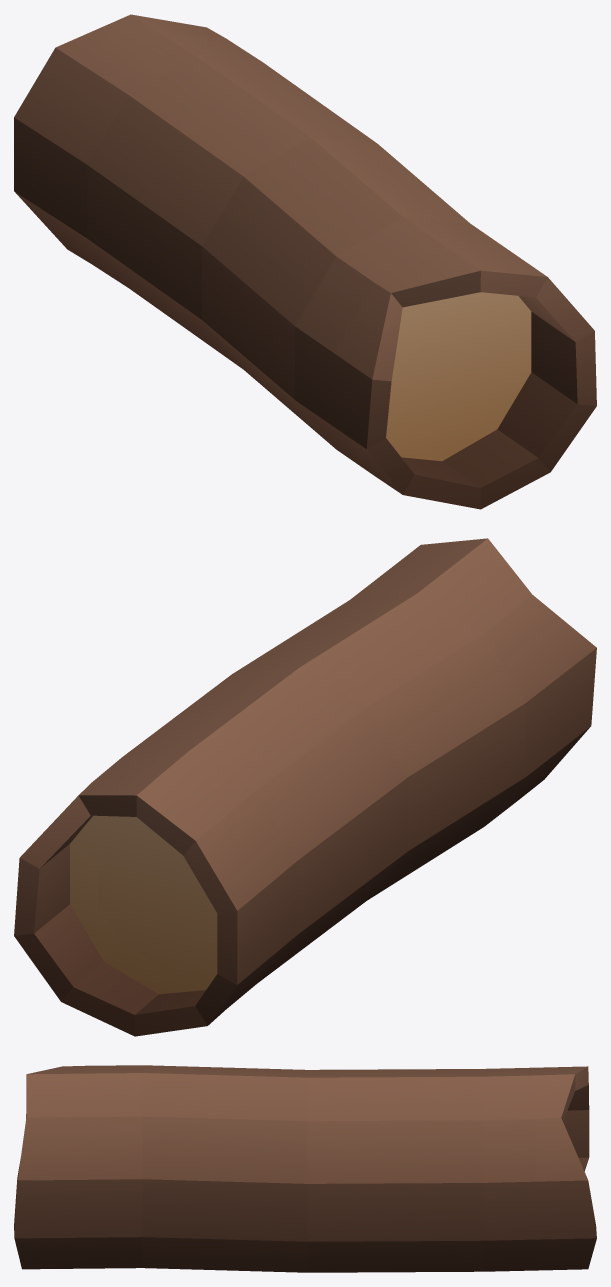
The model's file is kłoda1.fbx.
3 views of the same model, one above another, from view 1: azimuth 30°, elevation 25°; view 2: azimuth 150°, elevation 25°; view 3: azimuth 270°, elevation 25° (orthographic). The views are drawn at different scales.
Visible parts, largest first — view 1: kłoda1; view 2: kłoda1; view 3: kłoda1.
Part boxes in pixels (x1,y1,x2,y2): kłoda1: [14, 14, 596, 509]; kłoda1: [14, 538, 596, 1036]; kłoda1: [14, 1065, 596, 1272].
Bounding box in the file's own units: 73.84 × 73.49 × 207.
